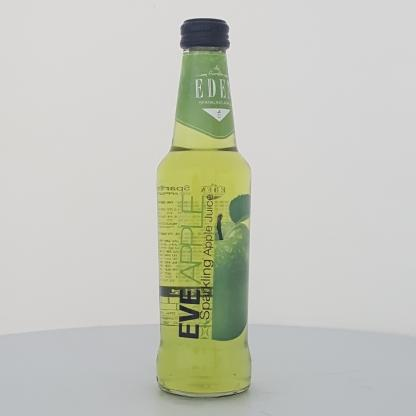----------------: (154, 17, 252, 398)
